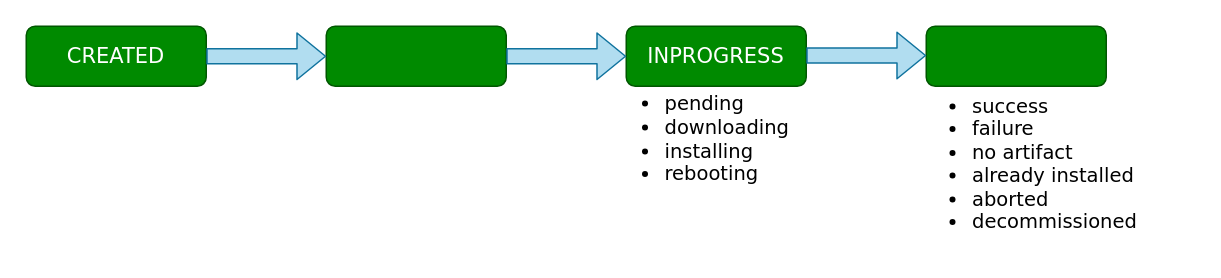
Some shapes in this 1221 by 278 pixel diagram are drawn without their labels. Each missing label, with the centre of its shape:
"FINISHED" belongs at [1015,55].
"PENDING" belongs at [415,55].
